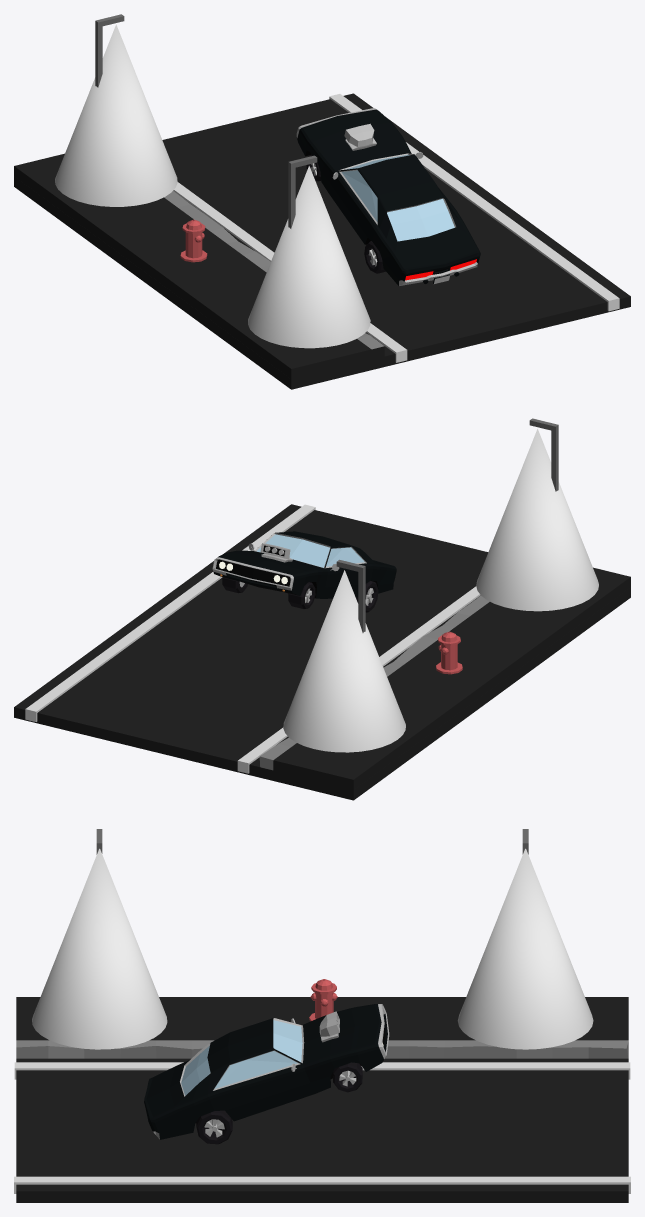
The model's file is dodgeCharger.glb.
3 renders of one model, top to bottom at view 1: azimuth 30°, elevation 25°; view 2: azimuth 150°, elevation 25°; view 3: azimuth 270°, elevation 25°, orthographic. The views are drawn at different scales.
Parts seen in each view (by area): view 1: Road, Basement, Body, LightConeRight, LightConeLeft, Middle line, Side line, StreetLights, Fire Hydrant; view 2: Road, Basement, LightConeRight, LightConeLeft, Body, Middle line, Side line, StreetLights, Fire Hydrant, Front Wheels; view 3: Road, Basement, Body, LightConeLeft, LightConeRight, Middle line, Side line, Back Wheels, Fire Hydrant, Front Wheels.
Part boxes in pixels (left/top/right/bottom): Road: left=14, top=93, right=630, bottom=389; Basement: left=14, top=153, right=384, bottom=379; Body: left=296, top=108, right=480, bottom=285; LightConeRight: left=248, top=166, right=370, bottom=348; LightConeLeft: left=55, top=24, right=177, bottom=206; Middle line: left=329, top=94, right=619, bottom=311; Side line: left=173, top=182, right=407, bottom=362; StreetLights: left=95, top=14, right=317, bottom=228; Fire Hydrant: left=180, top=219, right=207, bottom=262; Road: left=14, top=504, right=630, bottom=800; Basement: left=259, top=567, right=630, bottom=790; LightConeRight: left=476, top=429, right=598, bottom=611; LightConeLeft: left=283, top=570, right=405, bottom=752; Body: left=212, top=531, right=396, bottom=598; Middle line: left=25, top=504, right=315, bottom=721; Side line: left=237, top=586, right=480, bottom=773; StreetLights: left=336, top=418, right=558, bottom=632; Fire Hydrant: left=436, top=631, right=462, bottom=674; Front Wheels: left=222, top=577, right=315, bottom=608; Road: left=16, top=1058, right=628, bottom=1202; Basement: left=16, top=997, right=628, bottom=1058; Body: left=144, top=1004, right=389, bottom=1139; LightConeLeft: left=457, top=848, right=593, bottom=1049; LightConeRight: left=32, top=848, right=167, bottom=1049; Middle line: left=14, top=1176, right=630, bottom=1193; Side line: left=14, top=1062, right=630, bottom=1079; Back Wheels: left=196, top=1110, right=232, bottom=1144; Fire Hydrant: left=309, top=979, right=337, bottom=1021; Front Wheels: left=333, top=1062, right=362, bottom=1092.
Bounding box in the file's own units: 17.21 × 9.23 × 24.53.
